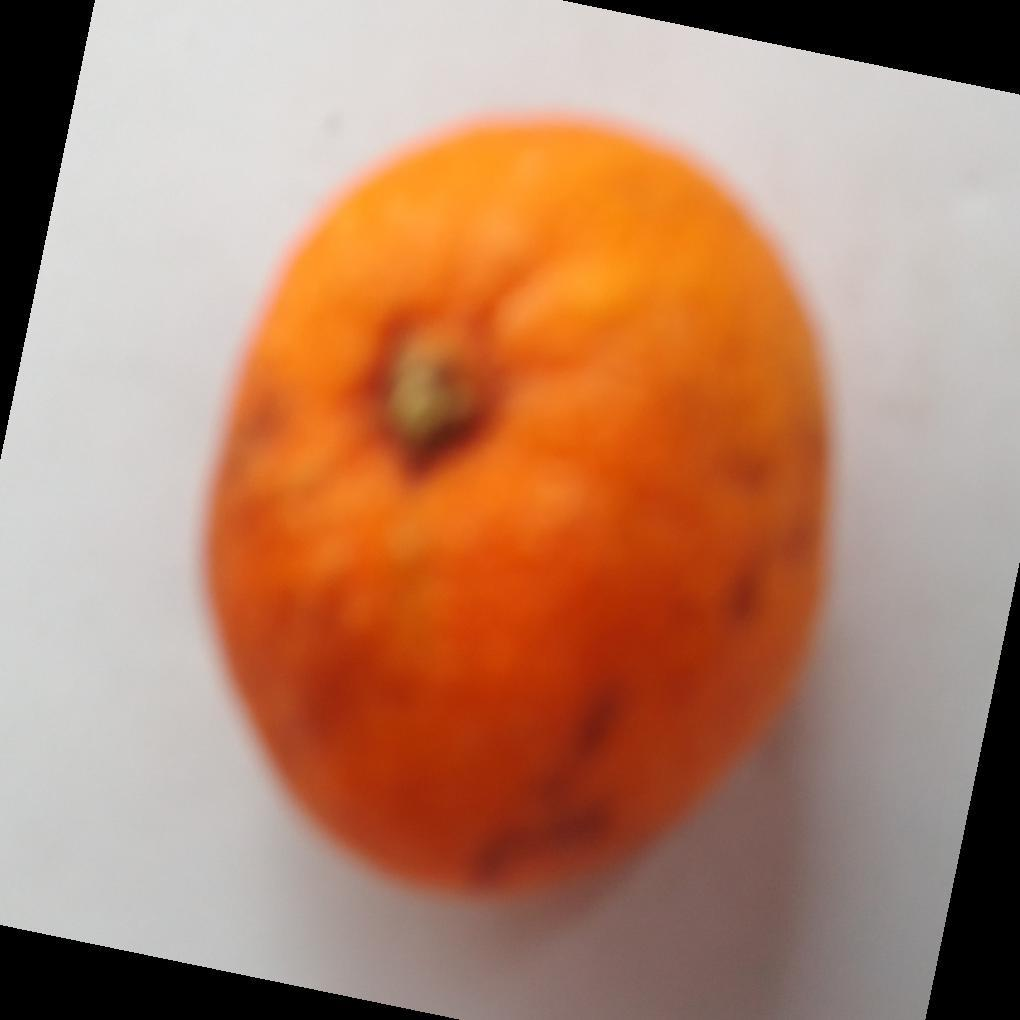FreshOrange: (198, 116, 838, 904)
